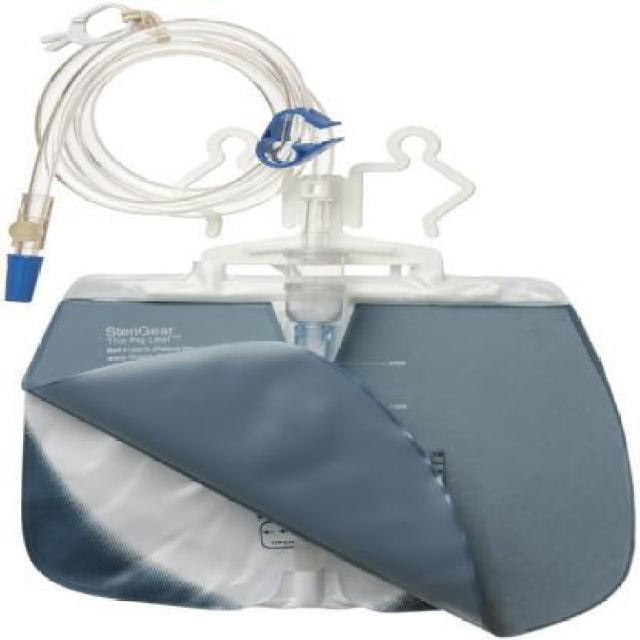B3: (0, 1, 638, 635)
